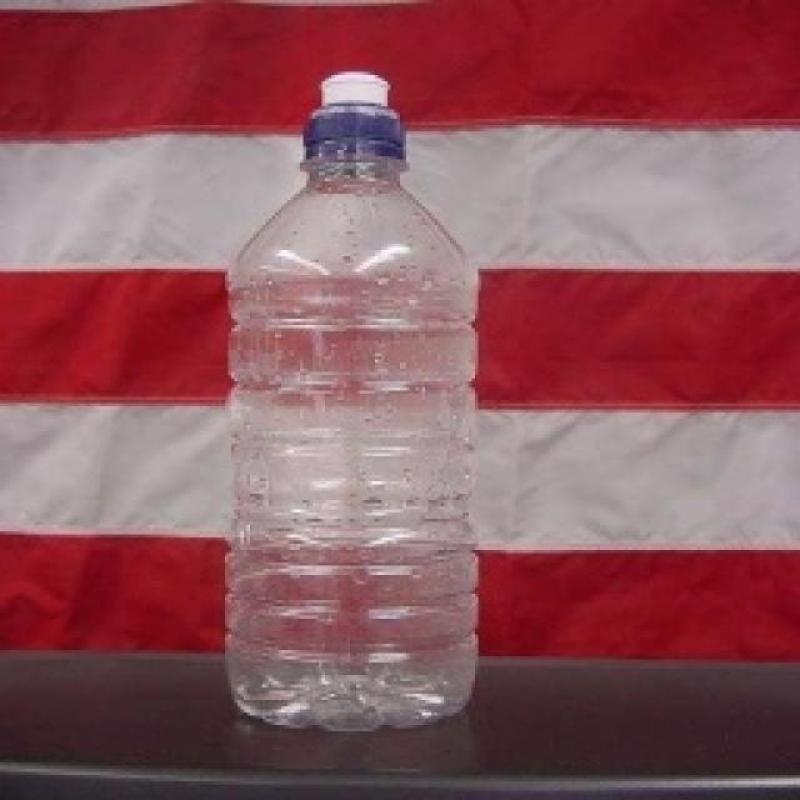botella: (221, 68, 481, 734)
